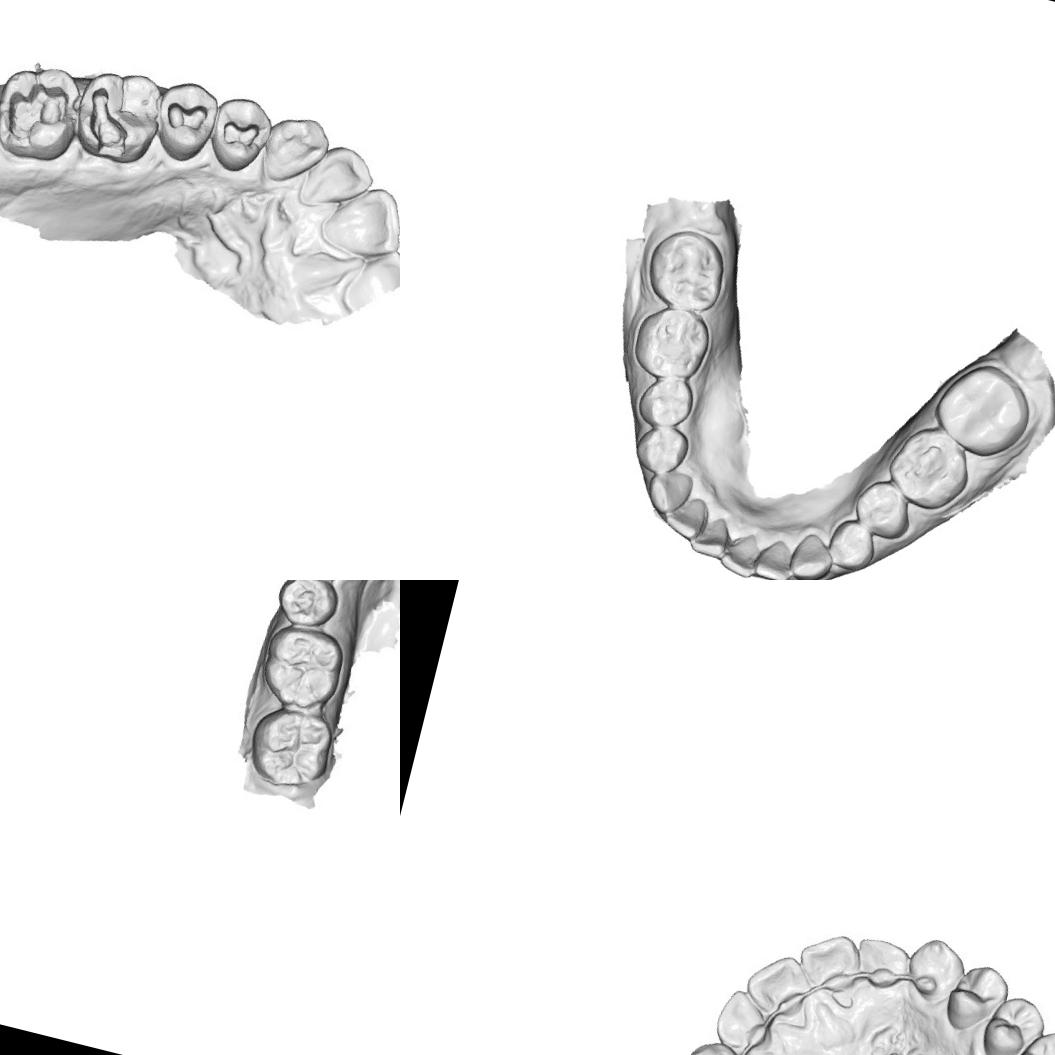canine: (256, 109, 334, 192), (904, 934, 966, 1002), (640, 464, 696, 520), (783, 527, 839, 580), (680, 1034, 751, 1055)
incisor: (322, 177, 400, 262), (299, 138, 373, 218), (791, 925, 862, 996), (744, 950, 810, 1014), (712, 986, 774, 1050), (851, 931, 915, 991), (656, 489, 710, 544), (749, 531, 801, 580), (717, 526, 764, 580), (688, 510, 734, 560)
inlay: (75, 78, 145, 164), (0, 71, 73, 151), (160, 93, 214, 139), (216, 112, 266, 154)
molar: (925, 352, 1039, 464), (880, 416, 979, 518), (239, 698, 339, 798), (254, 620, 352, 718), (638, 222, 735, 316), (626, 296, 718, 386)
premolar: (942, 960, 1010, 1034), (848, 473, 918, 543), (632, 366, 700, 434), (981, 991, 1046, 1055), (628, 418, 694, 480), (269, 580, 343, 634), (821, 514, 880, 574)
